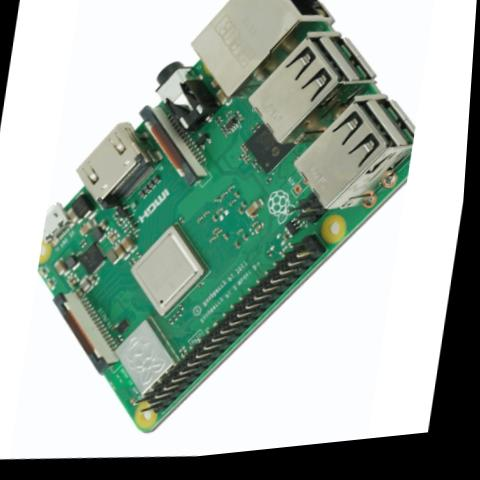Raspberry-Pi-3-Model-B-: (16, 0, 440, 473)
